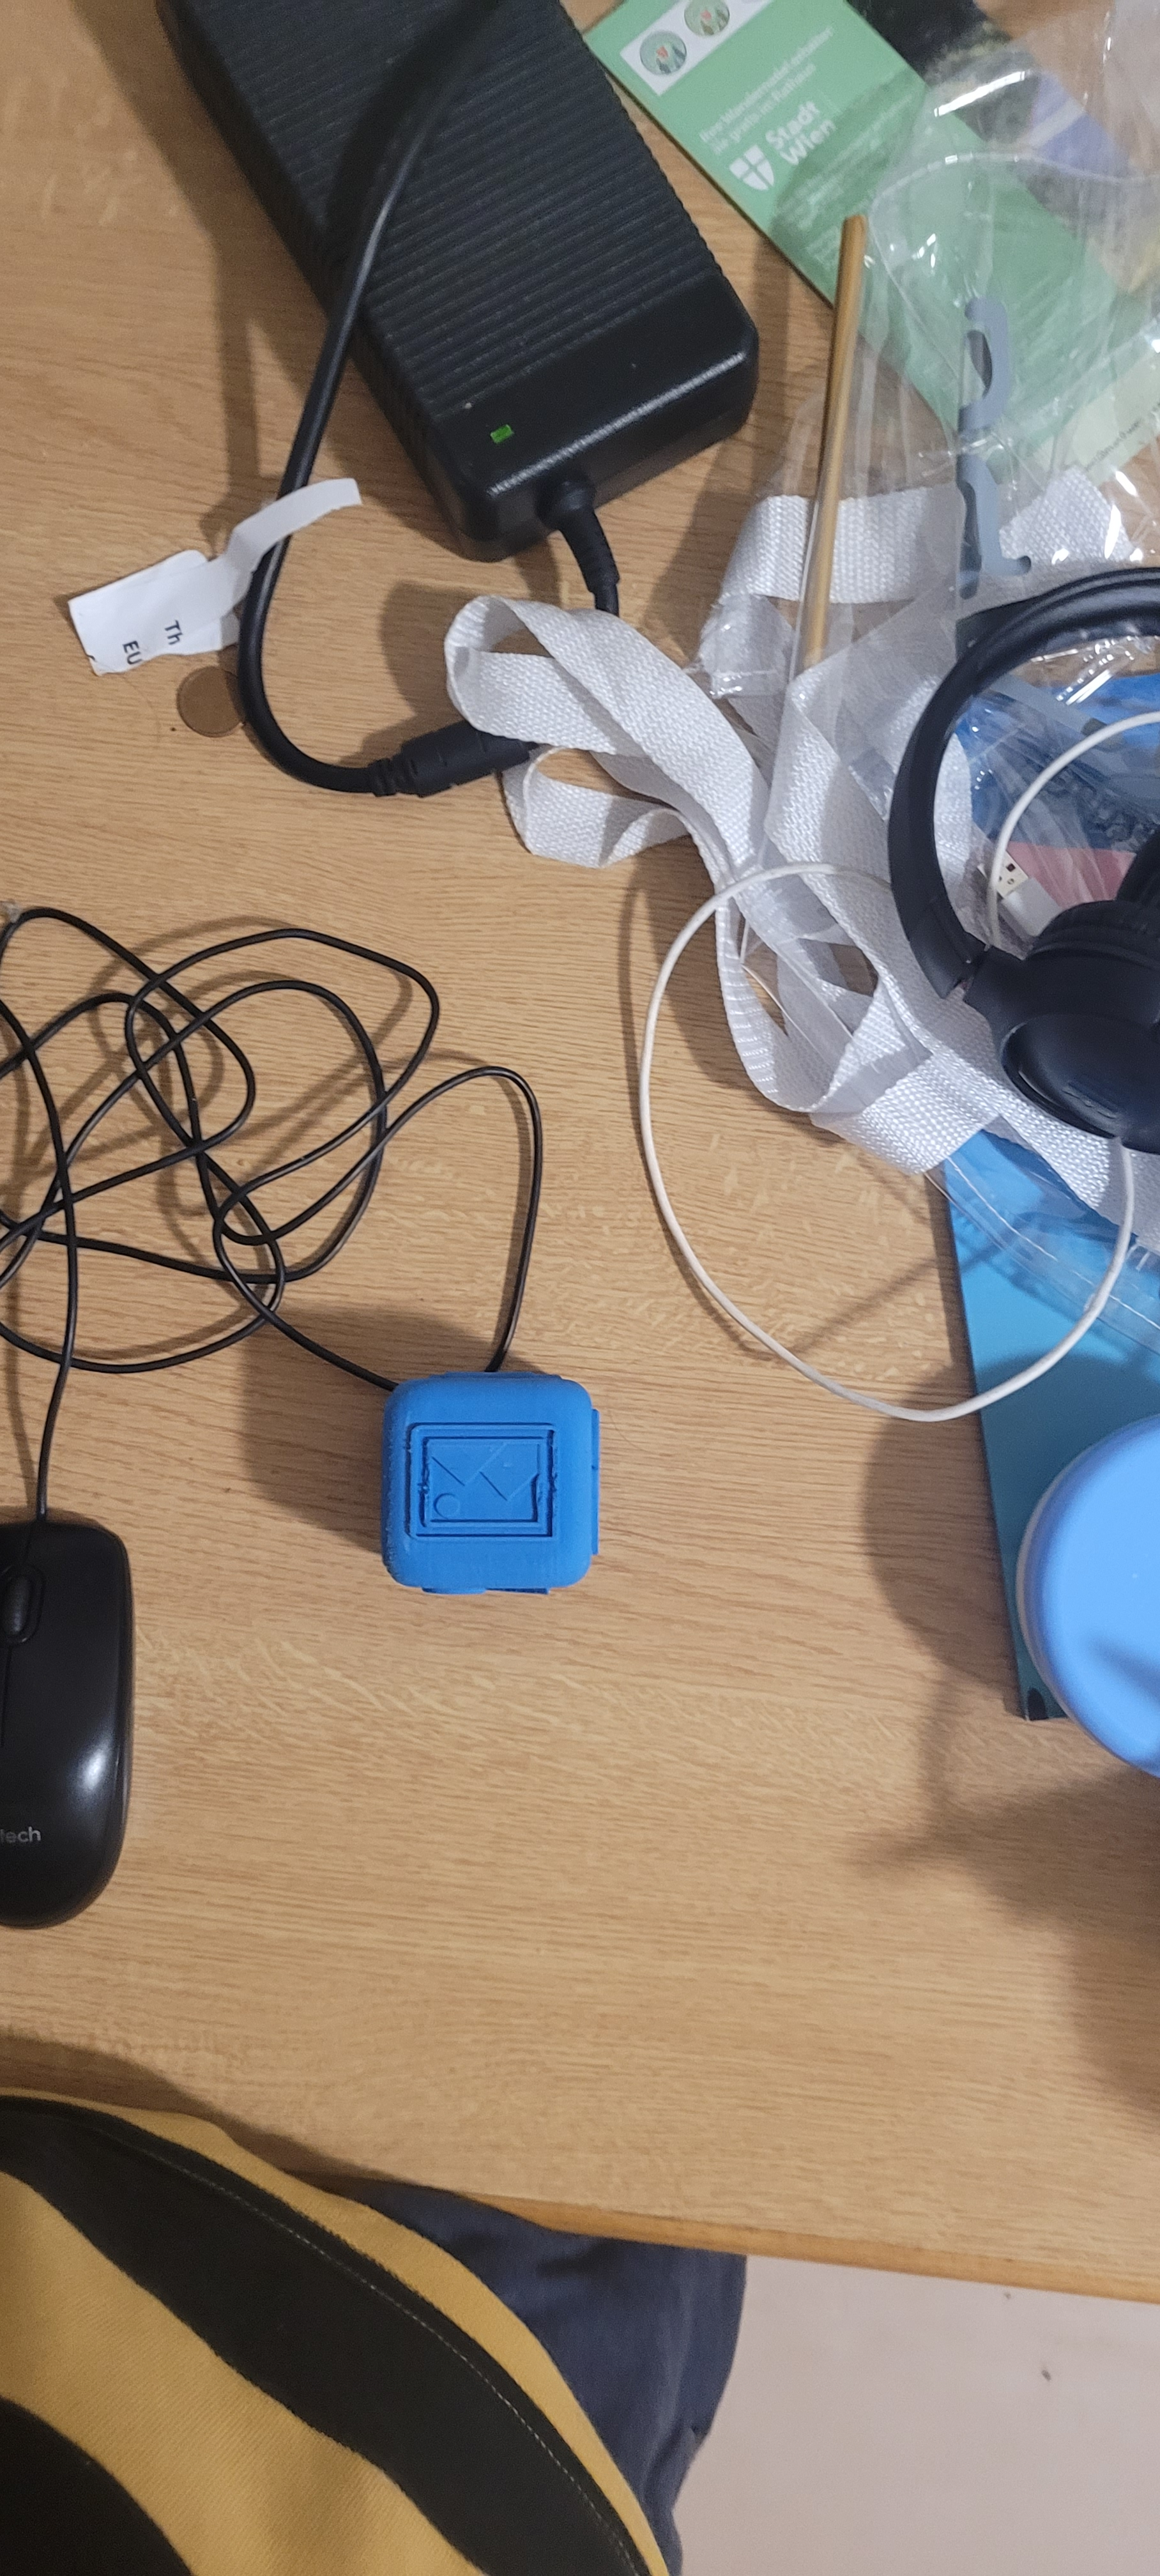Story: (411, 1395, 600, 1575)
